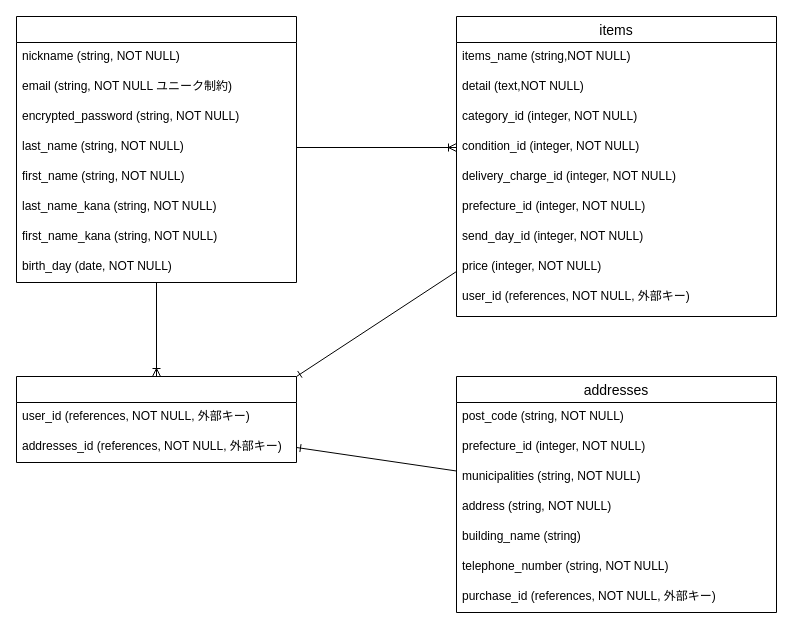
This 793x629 diagram has some shape labels left out. The box of each missing label's shape, as (x1, y1, x2, y2) in pixels:
purchases: (16, 376, 296, 462)
users: (16, 16, 296, 282)
